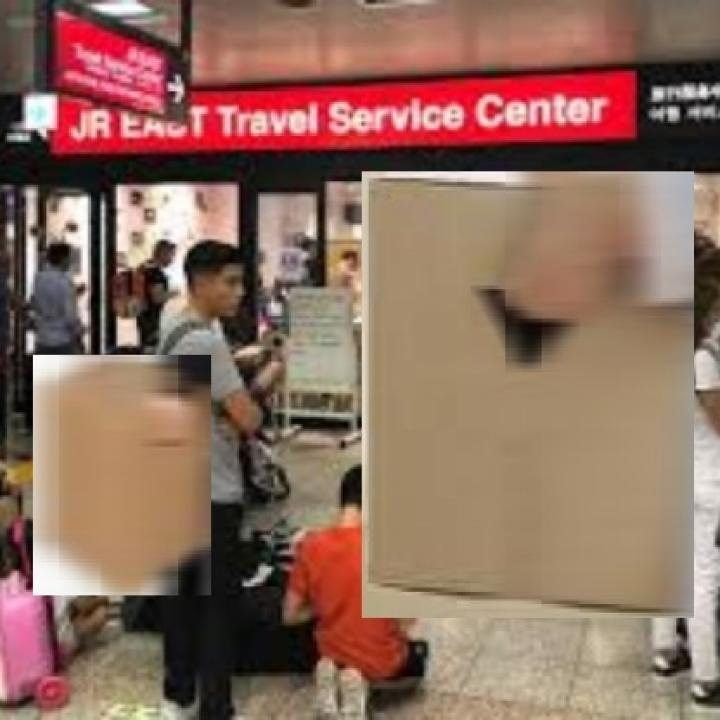box: (357, 165, 701, 626), (31, 352, 215, 600)
